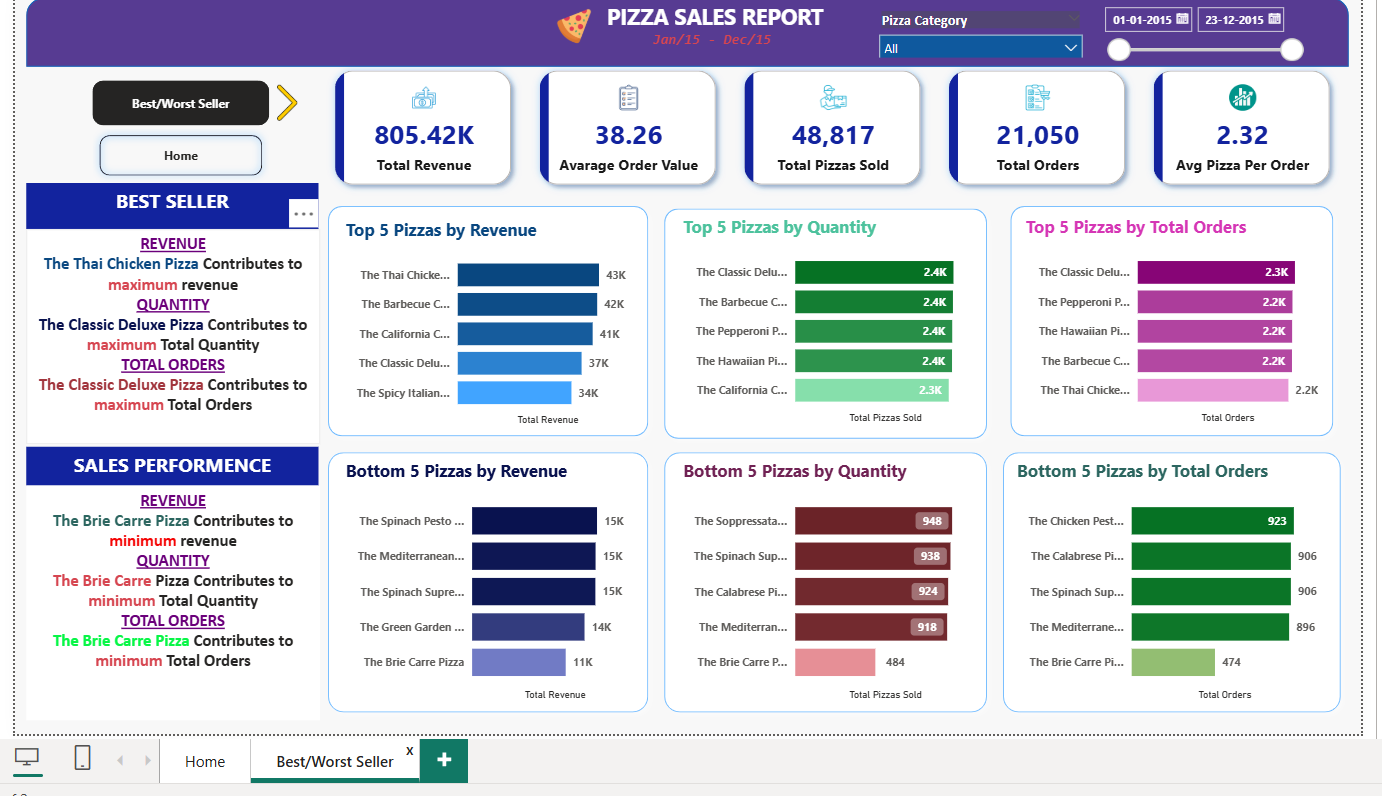

This screenshot's page, from the dashboard's own definition file:
{"tool":"powerbi","page":{"name":"Best/Worst Seller","canvas":[1500,820],"ordinal":1},"visuals":[{"type":"cardVisual","fields":{"Data":["KPI'S.Total Revenue","KPI'S.Avarage Order Value","KPI'S.Total Pizzas Sold","KPI'S.Total Orders","KPI'S.Avg Pizza Per Order"]},"box":[339.8,64.1,1146.2,161.5],"z":0},{"type":"shape","box":[12.5,0,1473.4,76.6],"z":1000},{"type":"textbox","box":[498.7,0,563.1,63],"z":2000},{"type":"textbox","box":[0,31.5,1500.3,31.5],"z":3000},{"type":"image","box":[408.4,7.2,429.9,48.7],"z":4000},{"type":"shape","box":[714.4,497.2,377.4,307.8],"z":5000},{"type":"shape","box":[714.4,225.6,377.4,274.4],"z":6000},{"type":"shape","box":[339.8,497.2,374.6,307.8],"z":8000},{"type":"shape","box":[1091.9,497.2,394.1,307.8],"z":9000},{"type":"shape","box":[339.8,222.8,374.6,274.4],"z":11000},{"type":"textbox","box":[12.9,205.7,325.7,51.4],"z":15000},{"type":"textbox","box":[12.9,257.1,327.1,240],"z":16000},{"type":"textbox","box":[12.9,500,325.7,42.9],"z":17000},{"type":"textbox","box":[12.9,542.9,327.1,261.4],"z":18000},{"type":"slicer","fields":{"Values":["pizza_sales.order_date"]},"box":[1201.9,0,246.5,76.6],"z":19000},{"type":"slicer","fields":{"Values":["pizza_sales.pizza_size"]},"box":[952.6,9.7,246.5,57.1],"z":20000},{"type":"shape","box":[1100.2,222.8,377.4,274.4],"z":20001},{"type":"barChart","title":"Top 5 Pizzas by Revenue ","fields":{"Category":["pizza_sales.pizza_name"],"Y":["pizza_sales.Total Revenue"]},"box":[363.4,244.4,336.1,236.4],"z":20002},{"type":"barChart","title":"Bottom 5 Pizzas by Revenue ","fields":{"Category":["pizza_sales.pizza_name"],"Y":["pizza_sales.Total Revenue"]},"box":[363.4,514.6,336.1,273.4],"z":20003},{"type":"barChart","title":"Top 5 Pizzas by Quantity","fields":{"Category":["pizza_sales.pizza_name"],"Y":["pizza_sales.Total Pizzas Sold"]},"box":[739.7,242.8,336.1,236.4],"z":20004},{"type":"barChart","title":"Bottom 5 Pizzas by Quantity","fields":{"Category":["pizza_sales.pizza_name"],"Y":["pizza_sales.Total Pizzas Sold"]},"box":[739.7,514.6,336.1,273.4],"z":20005},{"type":"barChart","title":"Top 5 Pizzas by Total Orders","fields":{"Category":["pizza_sales.pizza_name"],"Y":["pizza_sales.Total Orders"]},"box":[1120.8,242.8,336.1,236.4],"z":20006},{"type":"barChart","title":"Bottom 5 Pizzas by Total Orders","fields":{"Category":["pizza_sales.pizza_name"],"Y":["pizza_sales.Total Orders"]},"box":[1111.2,514.6,345.7,273.4],"z":20007},{"type":"pageNavigator","box":[85.7,91.4,197.1,50],"z":20008},{"type":"image","box":[134.3,91.4,338.6,50],"z":20009},{"type":"pageNavigator","box":[85.7,144.3,197.1,61.4],"z":20010}]}

Visuals, with their boxes on the page's 1500x820 design canvas (x1, y1, x2, y2). These are canvas units, not pixel positions in the 1382x796 screenshot, which may show the page scaled, cropped or inside an application window:
cardVisual - KPI'S.Total Revenue x KPI'S.Avarage Order Value: rect(340, 64, 1486, 226)
shape: rect(12, 0, 1486, 77)
textbox: rect(499, 0, 1062, 63)
textbox: rect(0, 32, 1500, 63)
image: rect(408, 7, 838, 56)
shape: rect(714, 497, 1092, 805)
shape: rect(714, 226, 1092, 500)
shape: rect(340, 497, 714, 805)
shape: rect(1092, 497, 1486, 805)
shape: rect(340, 223, 714, 497)
textbox: rect(13, 206, 339, 257)
textbox: rect(13, 257, 340, 497)
textbox: rect(13, 500, 339, 543)
textbox: rect(13, 543, 340, 804)
slicer - pizza_sales.order_date: rect(1202, 0, 1448, 77)
slicer - pizza_sales.pizza_size: rect(953, 10, 1199, 67)
shape: rect(1100, 223, 1478, 497)
"Top 5 Pizzas by Revenue " barChart: rect(363, 244, 700, 481)
"Bottom 5 Pizzas by Revenue " barChart: rect(363, 515, 700, 788)
"Top 5 Pizzas by Quantity" barChart: rect(740, 243, 1076, 479)
"Bottom 5 Pizzas by Quantity" barChart: rect(740, 515, 1076, 788)
"Top 5 Pizzas by Total Orders" barChart: rect(1121, 243, 1457, 479)
"Bottom 5 Pizzas by Total Orders" barChart: rect(1111, 515, 1457, 788)
pageNavigator: rect(86, 91, 283, 141)
image: rect(134, 91, 473, 141)
pageNavigator: rect(86, 144, 283, 206)
